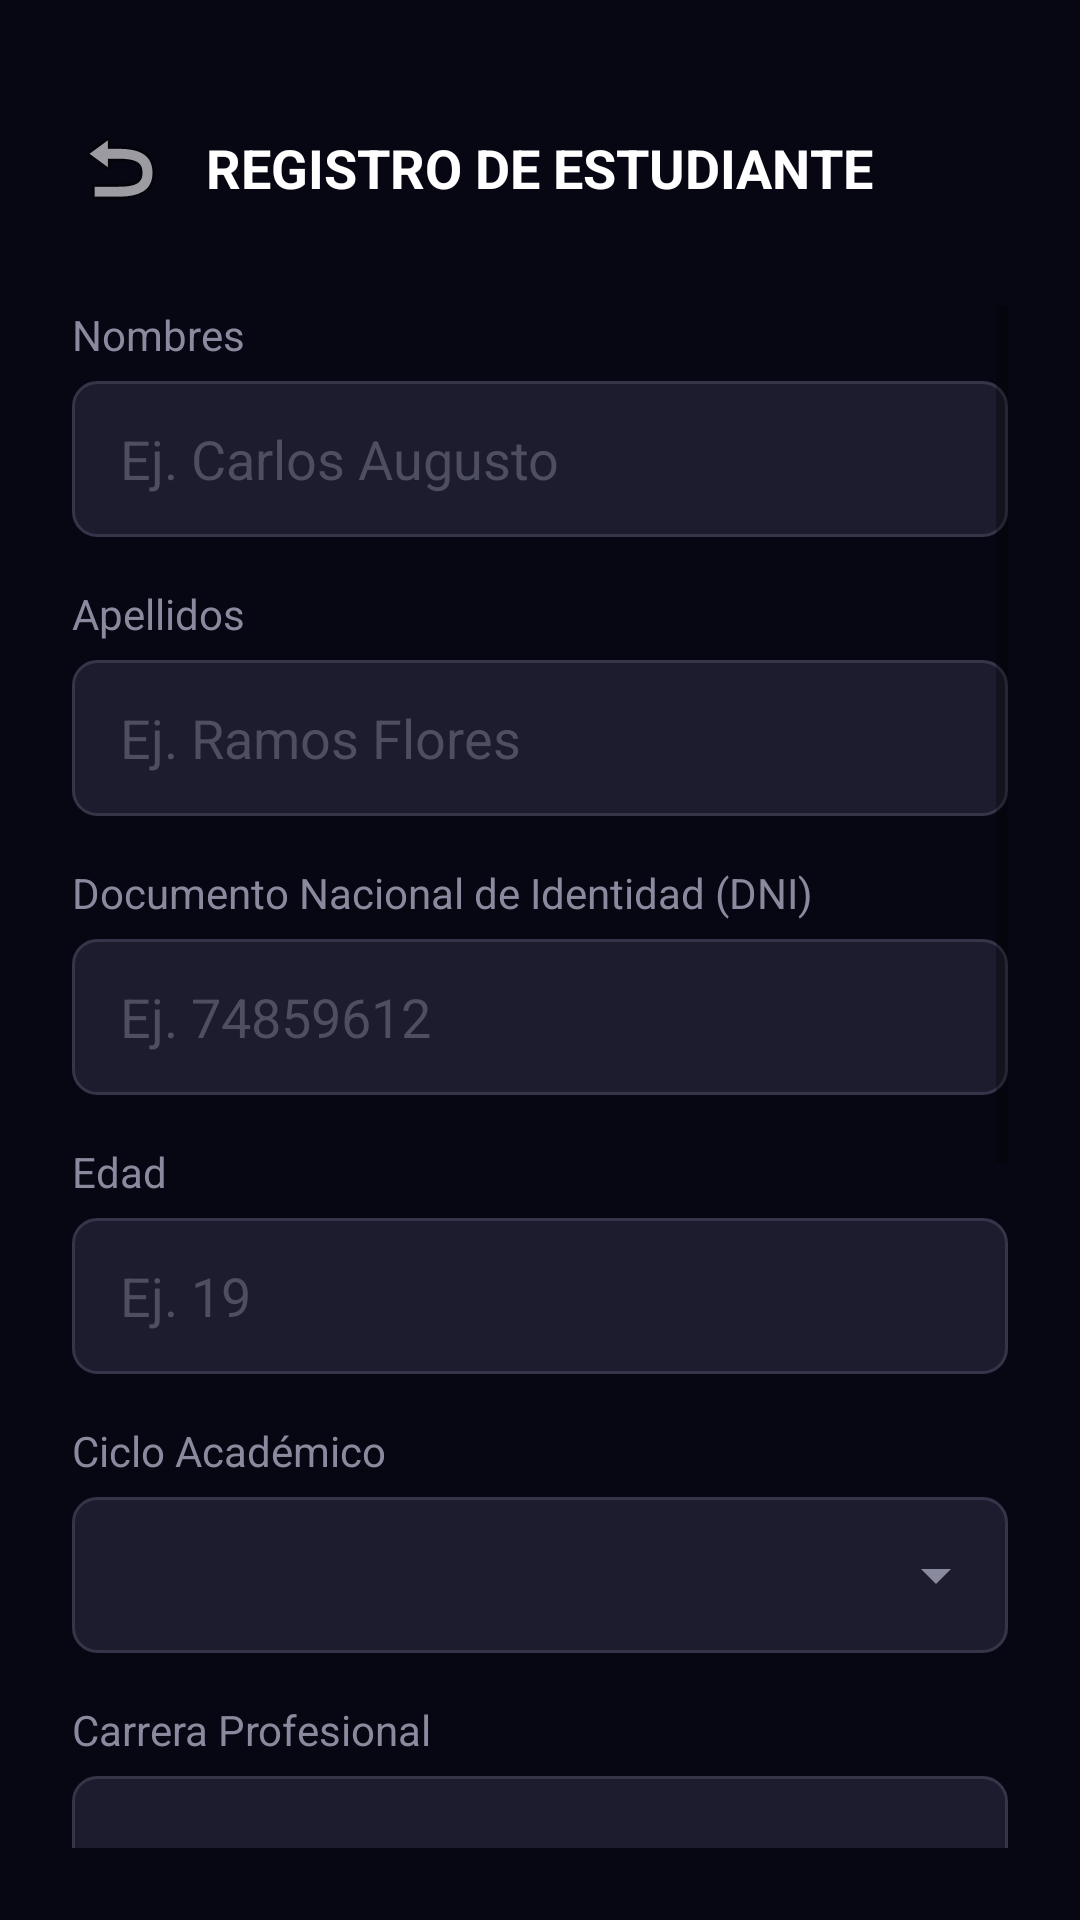

Point at icon controls on the screen. Image size 1080px x 1920px, points as (x,y).
Volver: (121,168)
